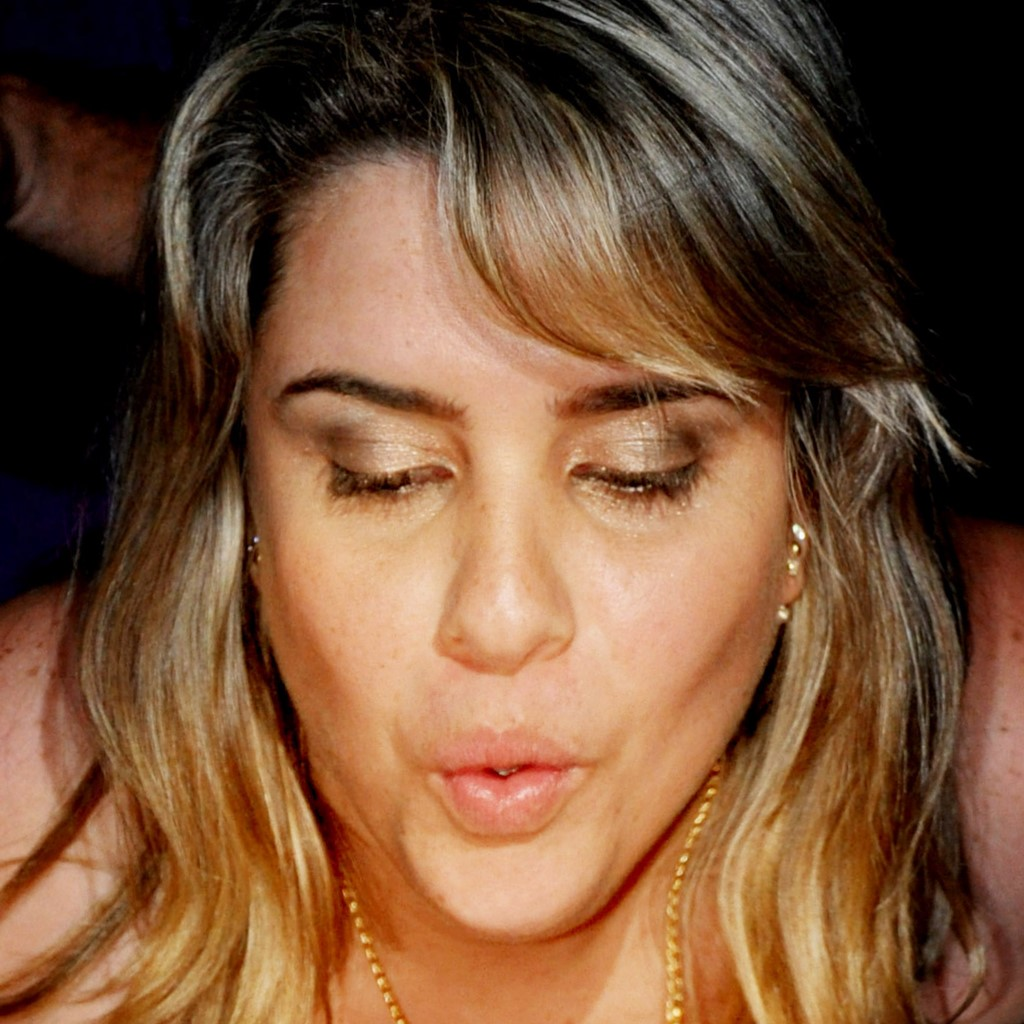sin_mascara: (224, 114, 786, 942)
